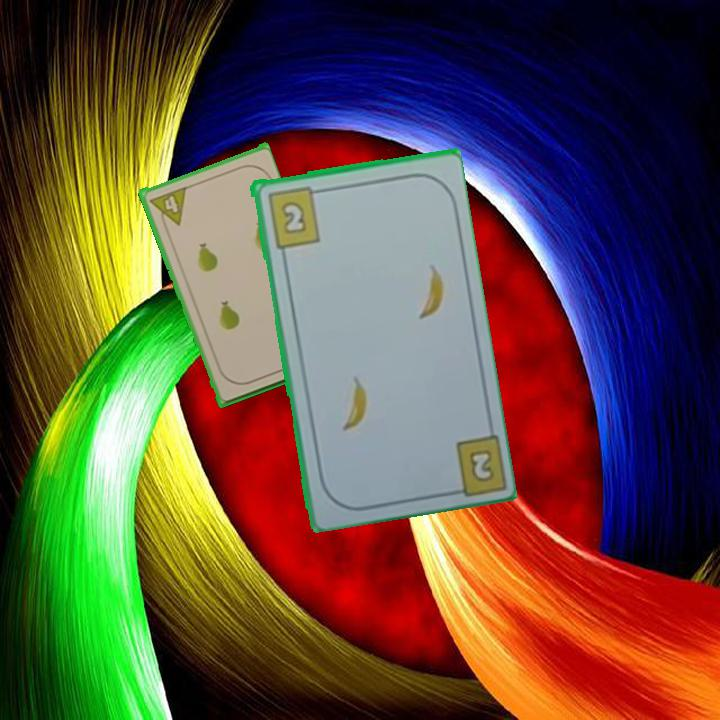2b: (442, 428, 506, 498), (263, 183, 324, 250)
4p: (145, 183, 189, 232)
